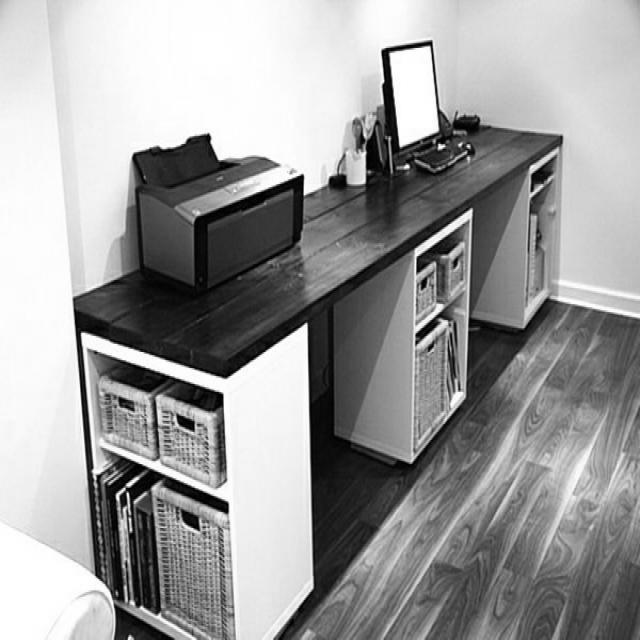table: (48, 91, 588, 418)
